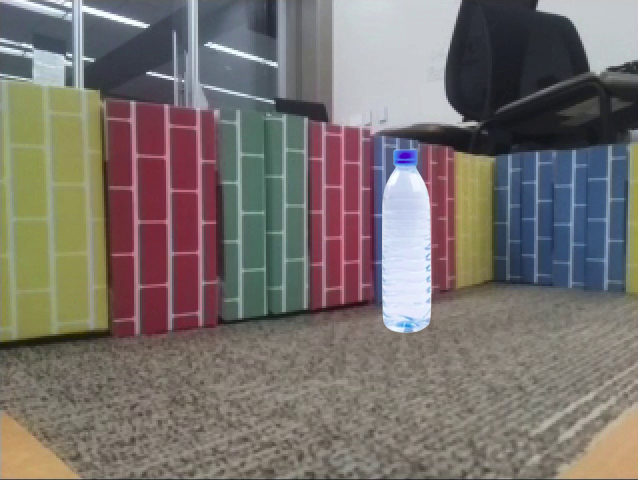pen: (499, 319, 521, 466)
